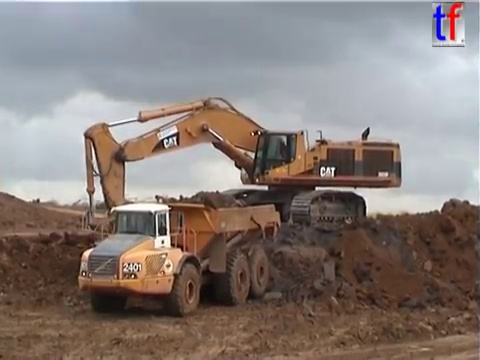excavator: (78, 94, 405, 245)
truck: (75, 199, 283, 318)
